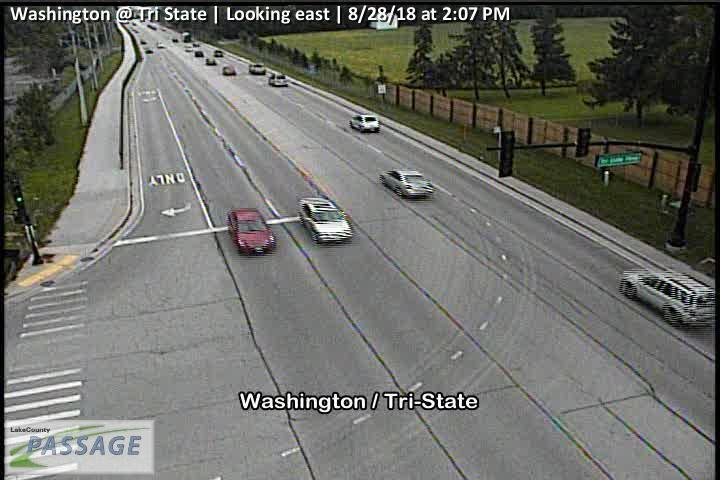SUV: (617, 265, 720, 329), (348, 112, 381, 132), (268, 72, 288, 87), (248, 62, 266, 75), (222, 63, 236, 76)
Sedan: (295, 196, 355, 246), (224, 207, 278, 256), (379, 168, 436, 202)
